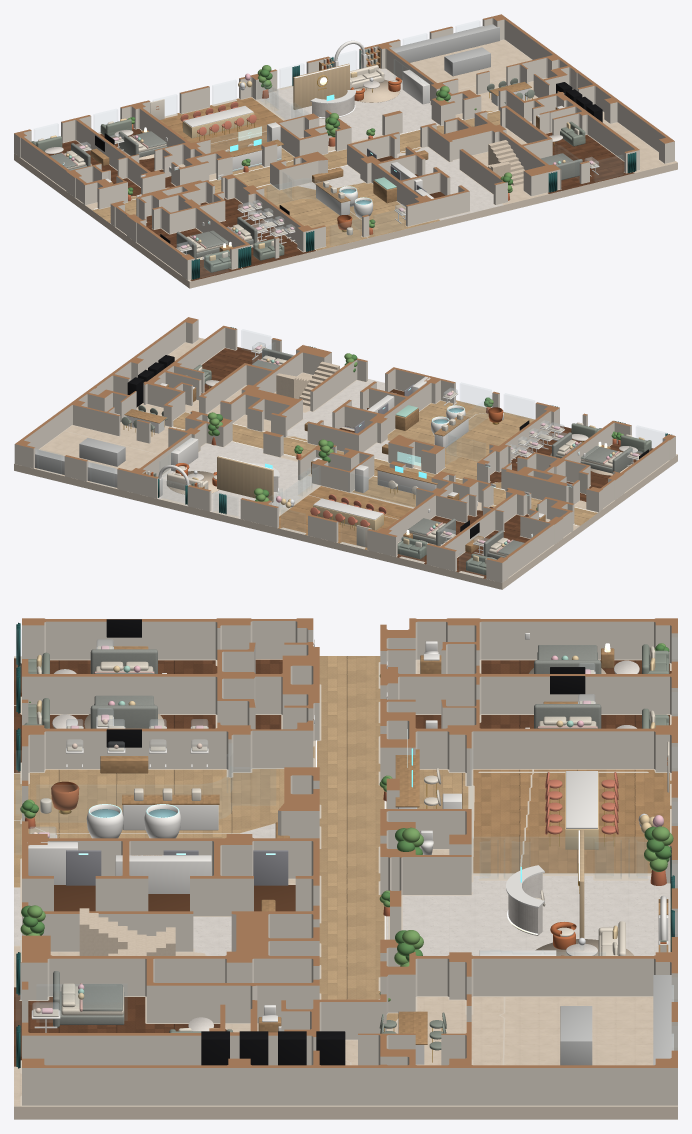
The model's file is scene_east.glb.
3 views of the same model, one above another, from view 1: azimuth 30°, elevation 25°; view 2: azimuth 150°, elevation 25°; view 3: azimuth 270°, elevation 25° (orthographic). The views are drawn at different scales.
Visible parts, largest first — view 1: scene_solid, scene_glass; view 2: scene_solid, scene_glass; view 3: scene_solid, scene_glass.
Part boxes in pixels (x1=…): scene_solid: x1=14, y1=14, x2=677, y2=288; scene_glass: x1=34, y1=21, x2=623, y2=277; scene_solid: x1=14, y1=317, x2=677, y2=589; scene_glass: x1=38, y1=330, x2=664, y2=576; scene_solid: x1=14, y1=618, x2=677, y2=1119; scene_glass: x1=16, y1=630, x2=677, y2=1055.
Bounding box in the file's own units: 33.3 × 2.8 × 20.75.
41 materials, 13 textured.
